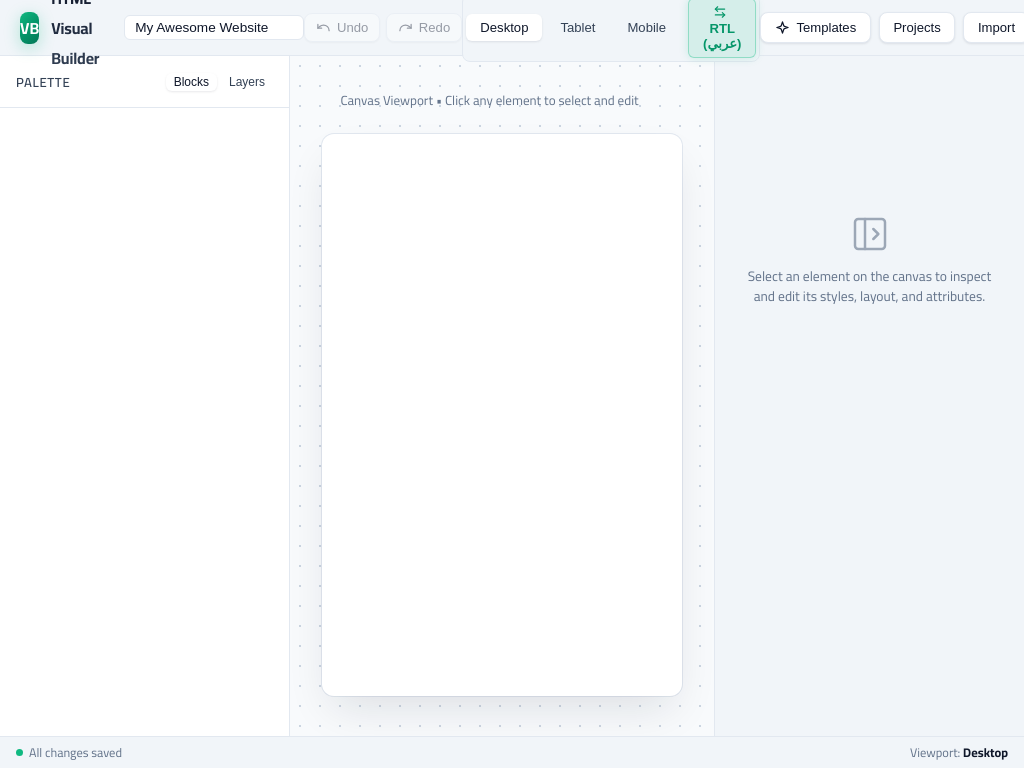
Test: Workspace Visual Editor Integration (Epic 1) › opens Projects modal when Projects button is clicked
Expected: the element with test id "editor-canvas-mount" is shown, 322,134 -> 682,696
What coordinates should you click on to do the following:
click the button with test id "btn-projects"
I would click on:
 (917, 28)
Its box is 879,12 -> 955,43.
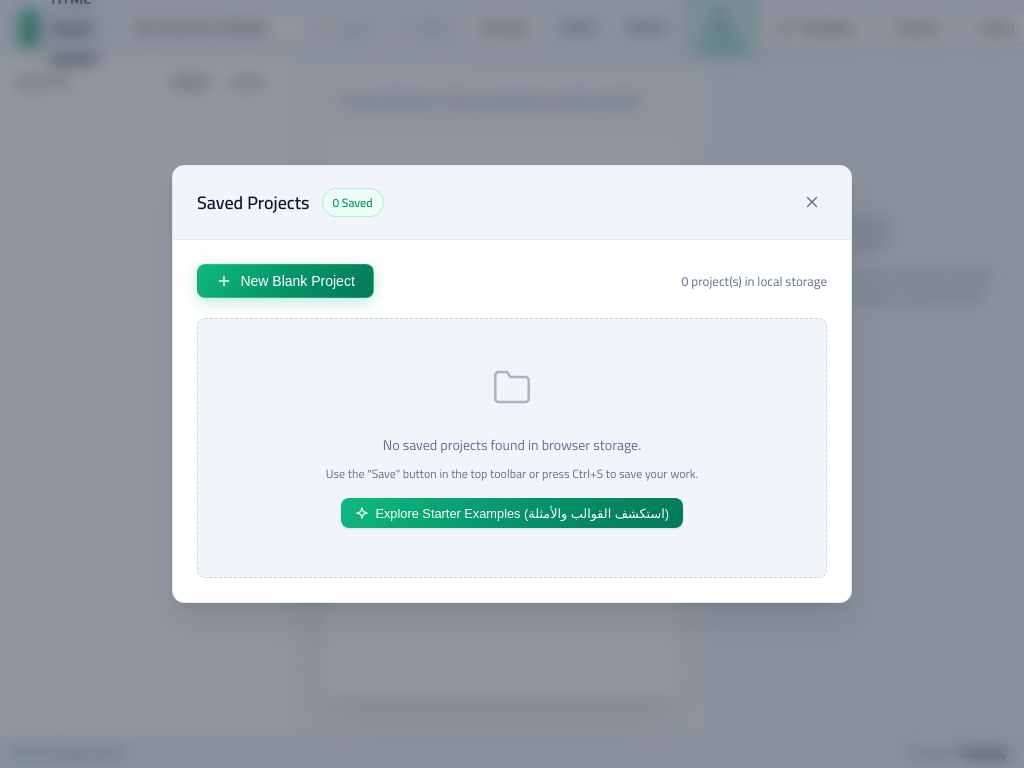
Result: the dialog with test id "projects-modal-dialog" is shown at 172,165 -> 852,603
